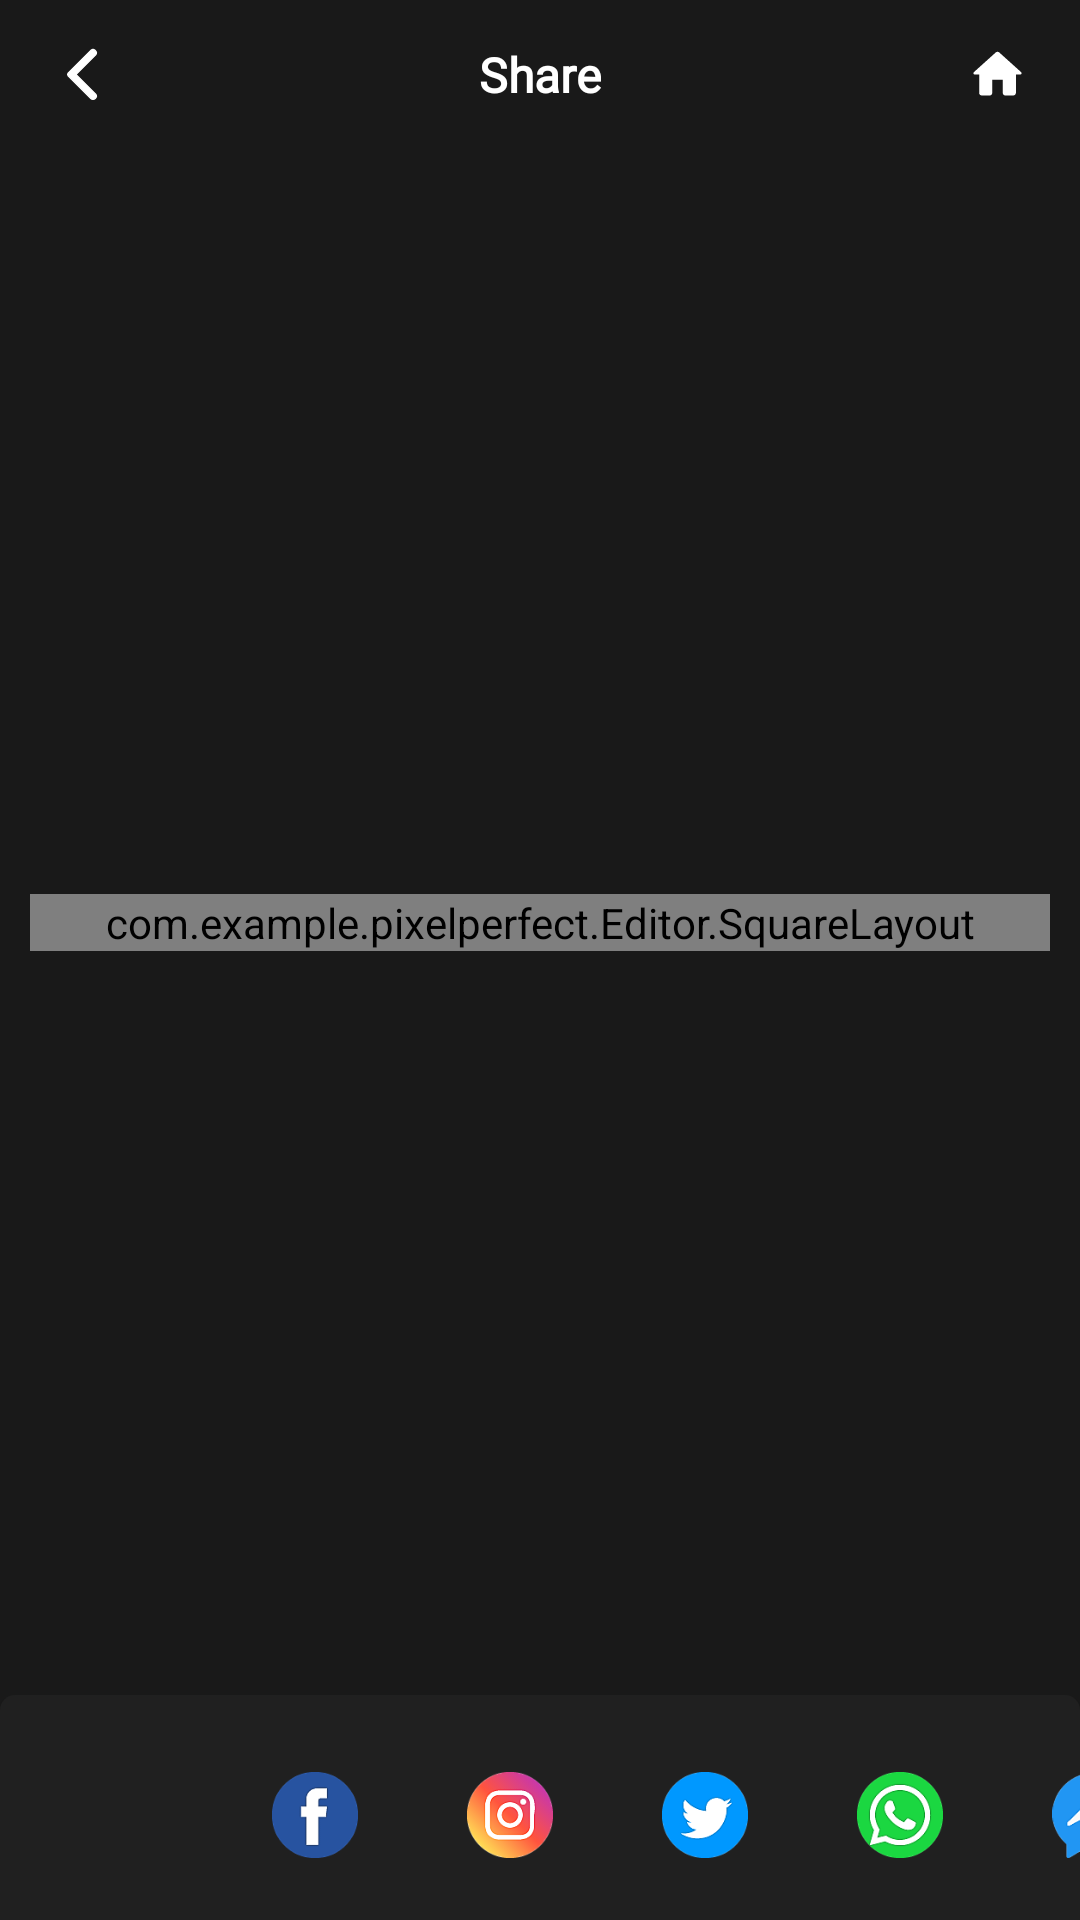

Icon bounding boxes for this 1080*1920 phone screenshot, format {"x1": x1, "y1": y1, "x2": x2, "y2": y2}:
arrow back: {"x1": 67, "y1": 48, "x2": 97, "y2": 100}
home: {"x1": 973, "y1": 51, "x2": 1022, "y2": 96}
